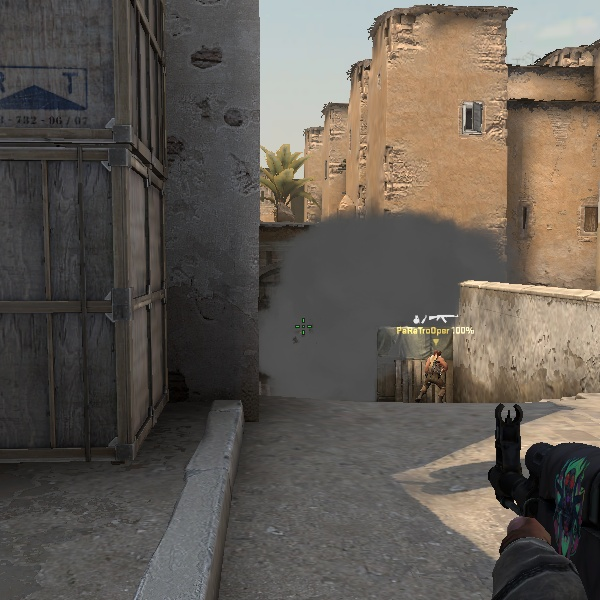t_body: (418, 349, 450, 401)
t_head: (433, 349, 442, 359)
